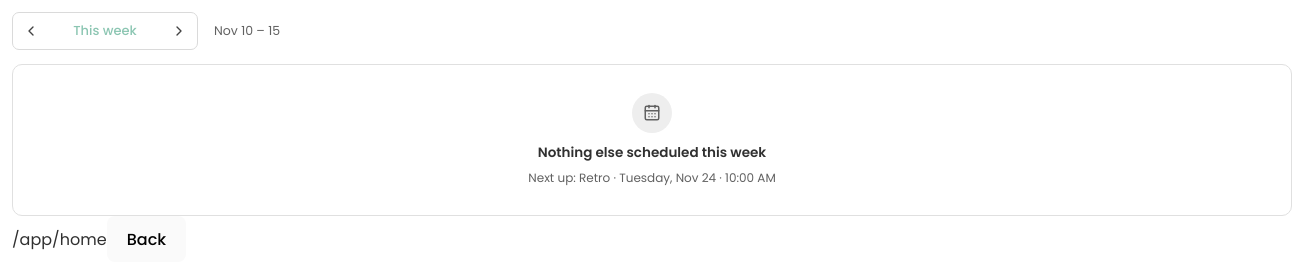
Test case: HomeSchedule › shows no Next up from another week while this week’s look-ahead loads
The image size is (1292, 267).
Expected: the text "Next up: Retro · Tuesday, Nov 24 · 10:00 AM" is shown, [528,169,776,187]
Click the button named "Next week": click(179, 31) [163,15,195,47]
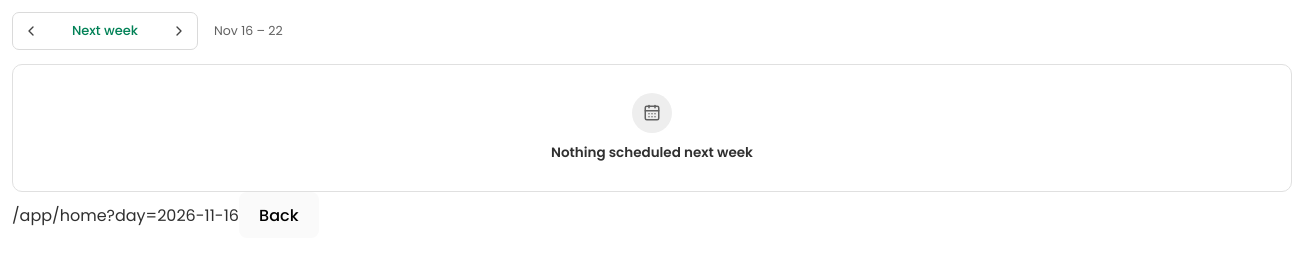
Expected: the text "Nothing scheduled next week" is shown, [551,143,753,163]
Expected: the text "Next up" is gone
